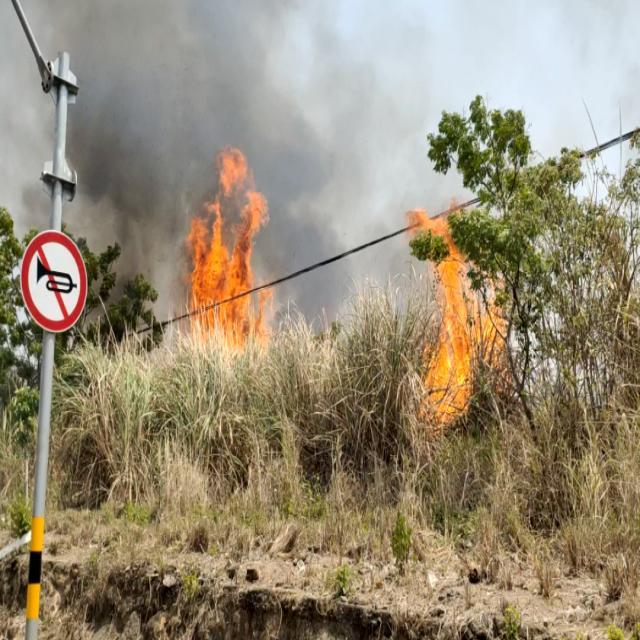Fire: (182, 149, 270, 344), (408, 204, 476, 415)
